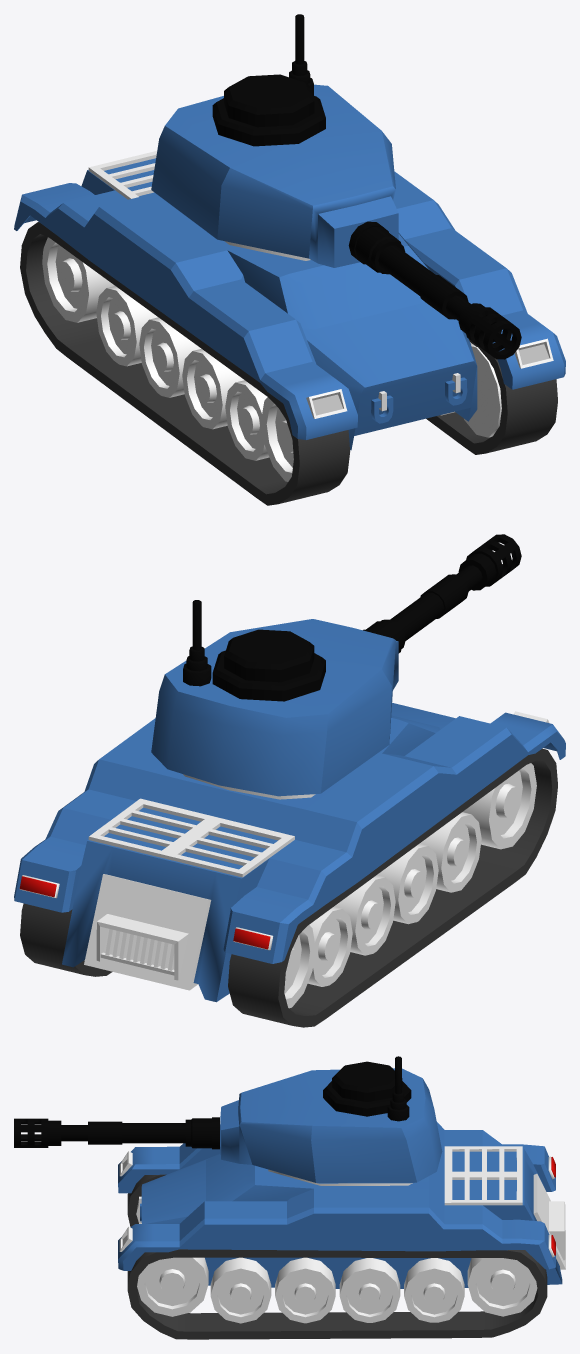
Rendered from Anastank4.fbx.
3 views of the same model, one above another, from view 1: azimuth 30°, elevation 25°; view 2: azimuth 150°, elevation 25°; view 3: azimuth 270°, elevation 25° (orthographic). The views are drawn at different scales.
Visible parts, largest first — view 1: Cube, Cube.002; view 2: Cube, Cube.002; view 3: Cube, Cube.002.
Boxes of the visible parts, bbox=[...] form: Cube: bbox=[14, 151, 565, 505]; Cube.002: bbox=[151, 14, 521, 359]; Cube: bbox=[14, 702, 565, 1027]; Cube.002: bbox=[151, 534, 521, 799]; Cube: bbox=[118, 1121, 565, 1339]; Cube.002: bbox=[14, 1056, 442, 1185].
Bounding box in the file's own units: 292 × 351 × 693.
